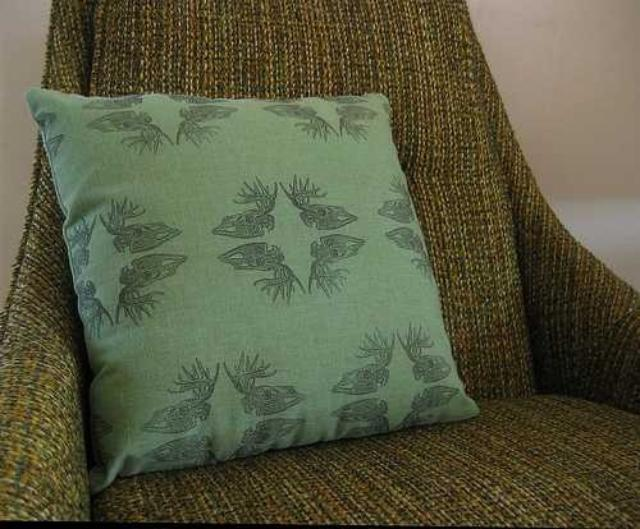pillow: (25, 86, 481, 496)
